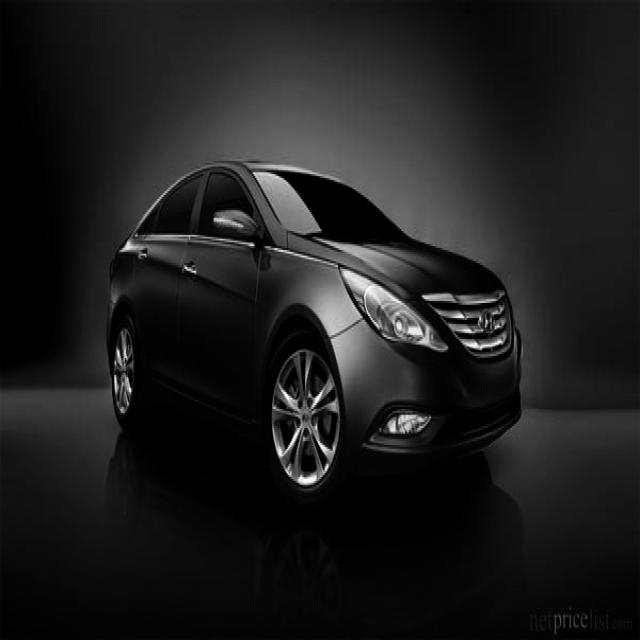car: (105, 157, 522, 511)
